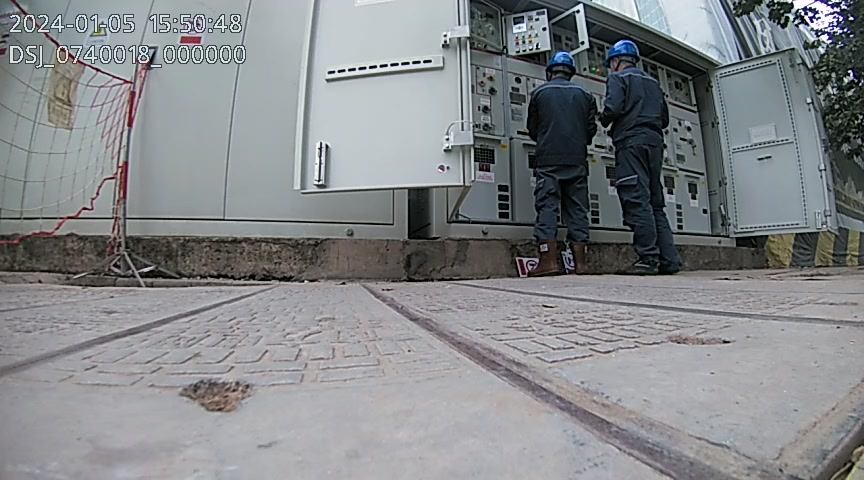halt: (608, 42, 643, 74), (549, 54, 578, 82)
